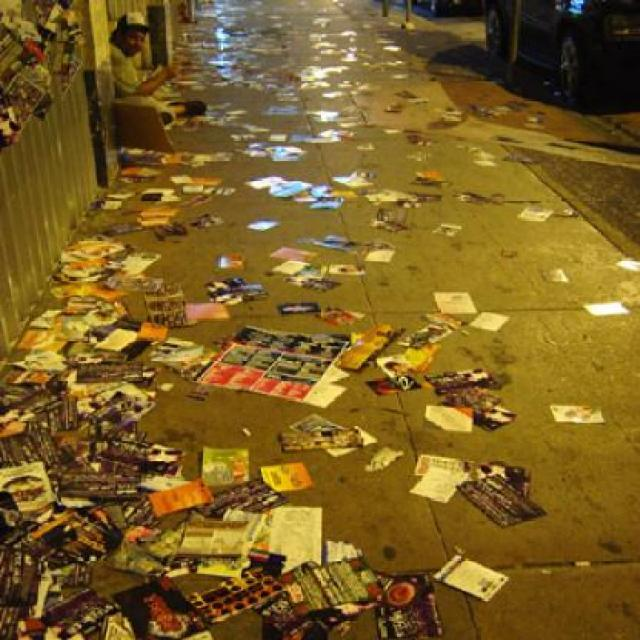garbage: (12, 342, 166, 624), (47, 489, 336, 620), (203, 328, 346, 397)
